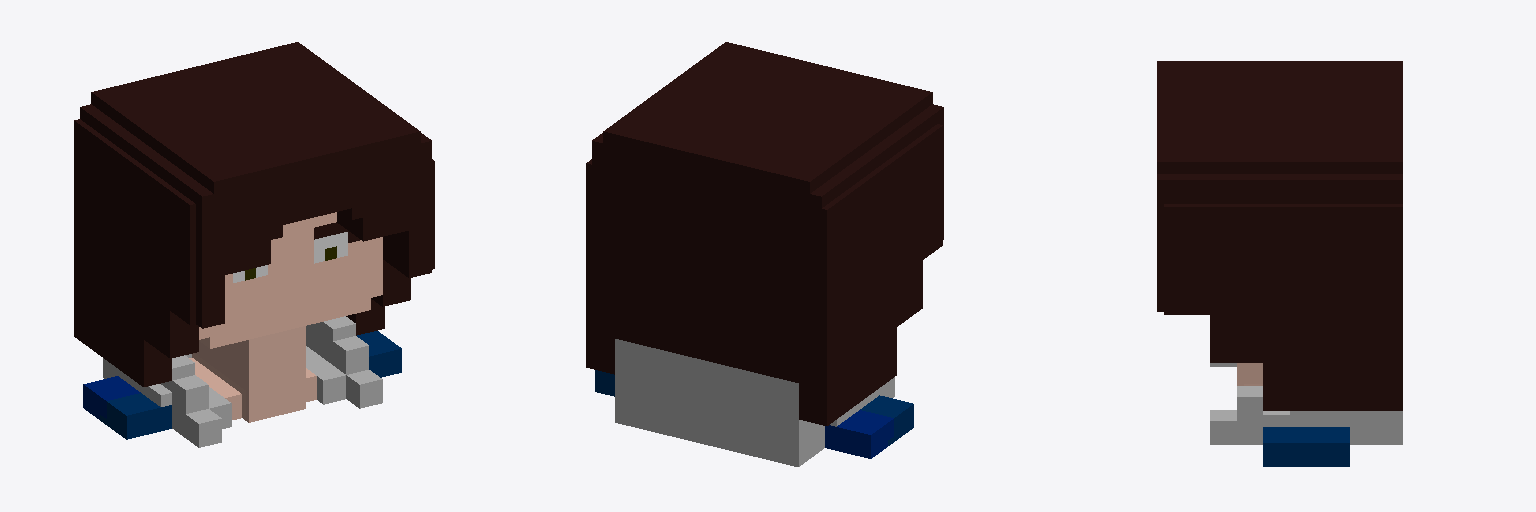
3 renders of one model, left to right at view 1: azimuth 30°, elevation 25°; view 2: azimuth 150°, elevation 25°; view 3: azimuth 270°, elevation 25°, orthographic.
Parts seen in each view (by area): view 1: object 1; view 2: object 1; view 3: object 1.
Part boxes in pixels (x1,y1,x2,y2): object 1: (74, 42, 434, 447); object 1: (586, 42, 943, 466); object 1: (1157, 61, 1402, 466).
Bounding box in the file's own units: 4.8 × 4.8 × 3.7.
Materials: 1 (1 with a texture image).